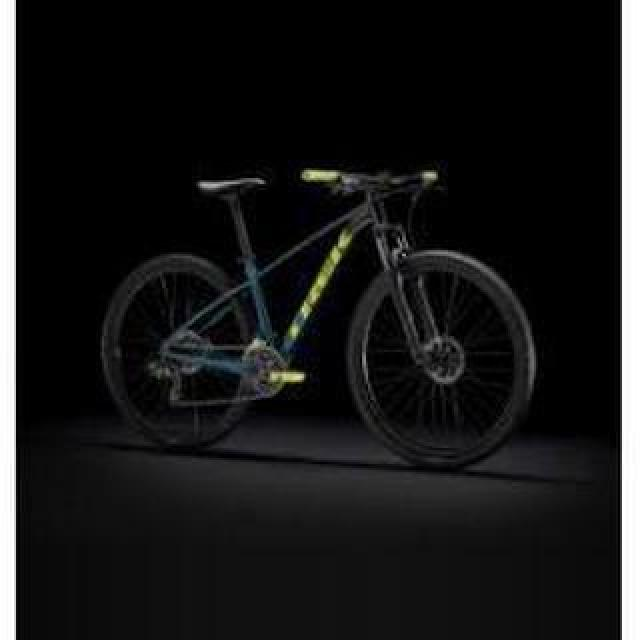Person: (98, 154, 544, 472)
